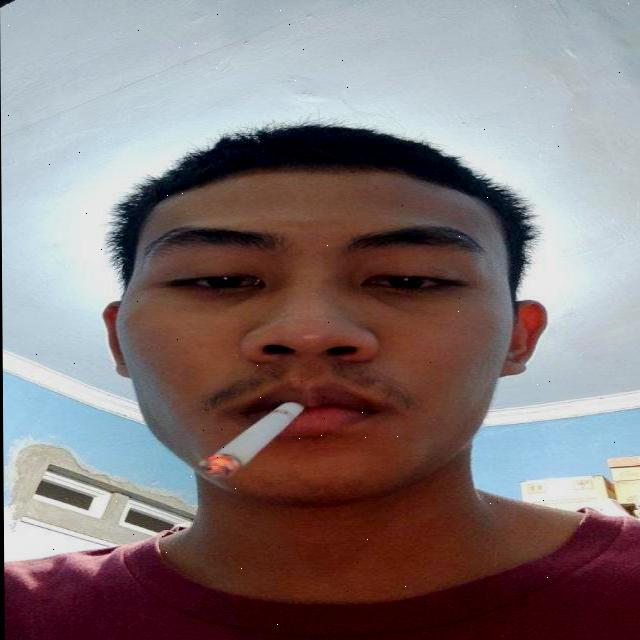cigarette: (197, 404, 306, 476)
